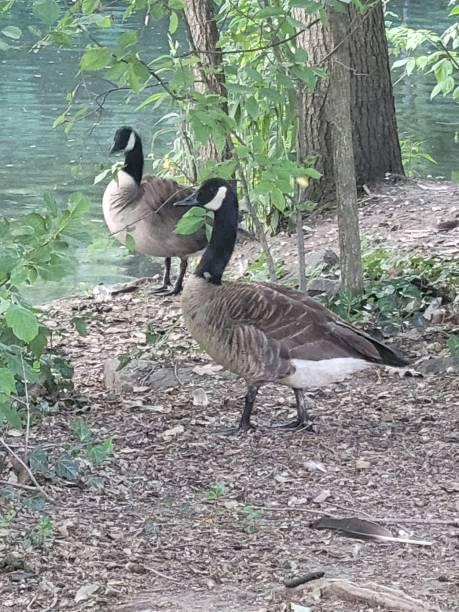Canadian-Goose: (174, 175, 410, 417), (99, 127, 200, 276)
